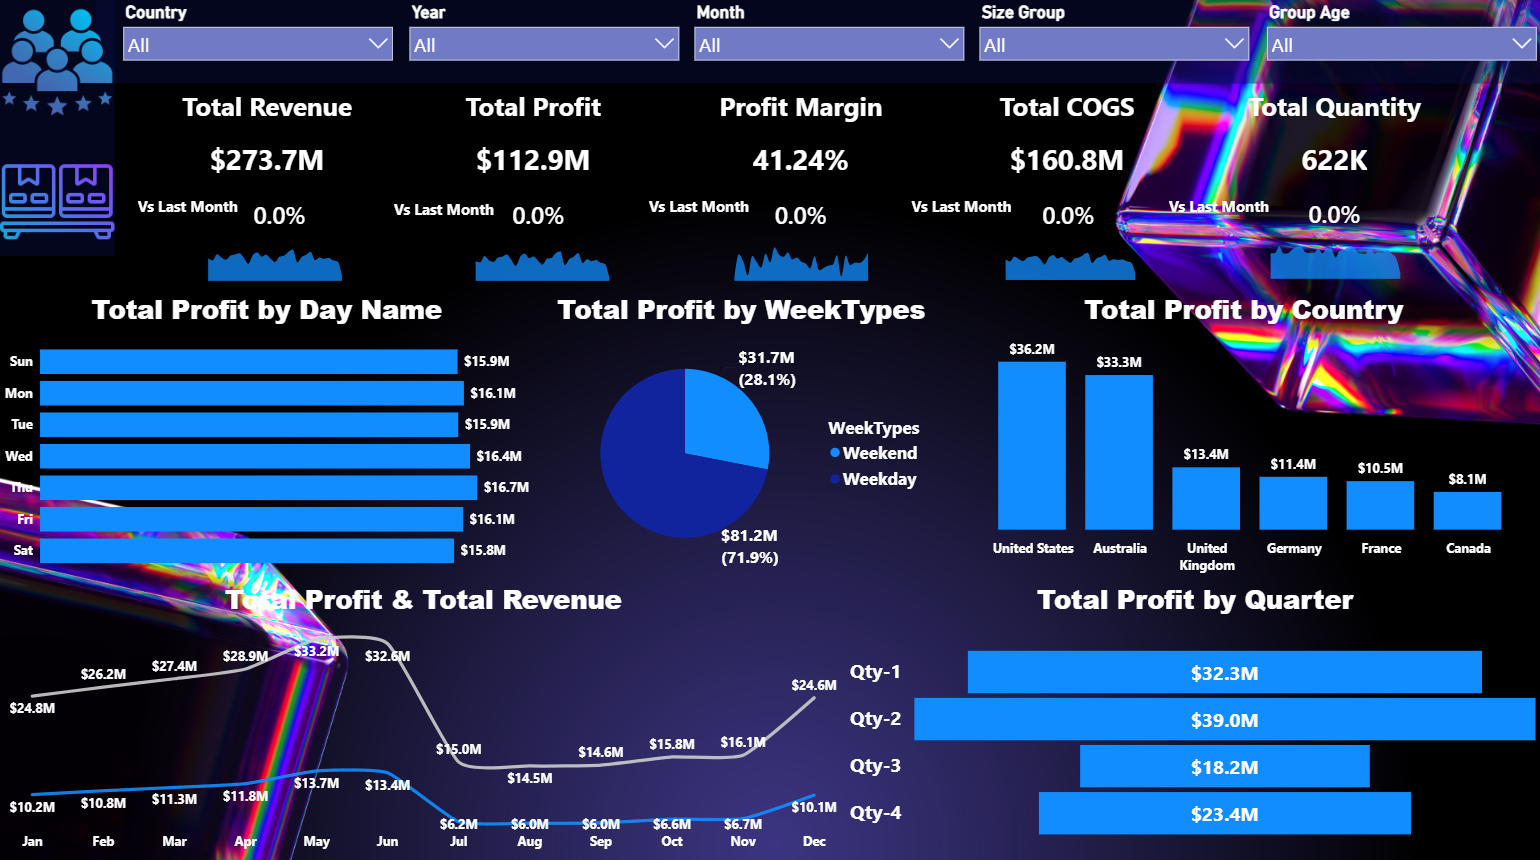

The page's visual inventory and layout, read from the dashboard file:
{"tool":"powerbi","page":{"name":"Over_View","canvas":[1920,1080],"ordinal":1},"visuals":[{"type":"shape","box":[0,0,142.4,321],"z":0},{"type":"shape","box":[120.4,0,1799.6,106.4],"z":1000},{"type":"cardVisual","title":"Total Revenue","fields":{"Data":["0.Revenue MoM %"]},"box":[254.2,234.4,185.2,66.8],"z":2000},{"type":"cardVisual","title":"Total Revenue","fields":{"Data":["0.Profit MoM %"]},"box":[577,234.4,185.2,66.8],"z":3000},{"type":"cardVisual","title":"Total Revenue","fields":{"Data":["0.Profit Margin MoM %"]},"box":[903.4,236.2,185.7,63.1],"z":4000},{"type":"cardVisual","title":"Total Revenue","fields":{"Data":["0.COGS MoM %"]},"box":[1235.2,236.2,185.7,63.1],"z":5000},{"type":"cardVisual","title":"Total Revenue","fields":{"Data":["0.Quantity MoM %"]},"box":[1566.9,232.6,185.2,66.8],"z":6000},{"type":"lineChart","title":"Total Profit & Total Revenue ","fields":{"Category":["DimDate.Month Name"],"Y":["0.Total Profit","0.Total Revenue"]},"box":[0,724.9,1053,346.2],"z":7000},{"type":"barChart","fields":{"Category":["DimDate.Day Name"],"Y":["0.Total Profit"]},"box":[0,364.2,663.6,360.6],"z":8000},{"type":"pieChart","fields":{"Category":["DimDate.WeekTypes"],"Y":["0.Total Profit"]},"box":[669,364.2,506.7,360.6],"z":9000},{"type":"funnel","fields":{"Category":["DimDate.Quarter"],"Y":["0.Total Profit"]},"box":[1053,724.9,867.3,357],"z":10000},{"type":"columnChart","fields":{"Category":["DimGeography.Country"],"Y":["0.Total Profit"]},"box":[1175.7,364.2,742.9,360.6],"z":11000},{"type":"areaChart","title":"Total Revenue","fields":{"Category":["DimDate.Date.Variation.Date Hierarchy.Day"],"Y":["0.Total Revenue"]},"box":[243.4,290.3,196.2,66.2],"z":12000},{"type":"areaChart","title":"Total Revenue","fields":{"Category":["DimDate.Date.Variation.Date Hierarchy.Day"],"Y":["0.Total Profit"]},"box":[577,290.3,196.2,66.2],"z":13000},{"type":"areaChart","title":"Total Revenue","fields":{"Category":["DimDate.Date.Variation.Date Hierarchy.Day"],"Y":["0.Total COGS"]},"box":[1235.2,288.5,191.1,66.7],"z":14000},{"type":"areaChart","title":"Total Revenue","fields":{"Category":["DimDate.Date.Variation.Date Hierarchy.Day"],"Y":["0.Total Quantity"]},"box":[1565.1,286.7,191.1,68.5],"z":15000},{"type":"areaChart","title":"Total Revenue","fields":{"Category":["DimDate.Date.Variation.Date Hierarchy.Day"],"Y":["0.% Profit Margin"]},"box":[898,290.3,196.2,66.2],"z":16000},{"type":"cardVisual","title":"Total Revenue","fields":{"Data":["0.Total Revenue"]},"box":[165.9,111.4,331.8,129.8],"z":17000},{"type":"cardVisual","title":"Total Profit","fields":{"Data":["0.Total Profit"]},"box":[497.7,111.4,331.8,129.8],"z":18000},{"type":"cardVisual","title":"Profit Margin","fields":{"Data":["0.% Profit Margin"]},"box":[829.5,111.4,331.8,129.8],"z":19000},{"type":"cardVisual","title":"Total COGS","fields":{"Data":["0.Total COGS"]},"box":[1161.2,111.4,331.8,129.8],"z":20000},{"type":"cardVisual","title":"Total Quantity","fields":{"Data":["0.Total Quantity"]},"box":[1493,111.4,331.8,129.8],"z":21000},{"type":"slicer","title":"Country","fields":{"Values":["DimGeography.Country"]},"box":[143.1,0.7,355.2,90.2],"z":22000},{"type":"slicer","title":"Country","fields":{"Values":["DimDate.Date.Variation.Date Hierarchy.Year"]},"box":[498.4,0.7,355.2,90.2],"z":23000},{"type":"slicer","title":"Country","fields":{"Values":["DimDate.Date.Variation.Date Hierarchy.Month"]},"box":[853.6,0.7,355.2,90.2],"z":24000},{"type":"slicer","title":"Country","fields":{"Values":["DimCustomer.Group Age"]},"box":[1565.1,0,355.2,90.2],"z":25000},{"type":"slicer","title":"Country","fields":{"Values":["DimProduct.Size Group"]},"box":[1208.1,0,355.2,90.2],"z":26000},{"type":"textbox","box":[165.9,241.6,156.9,46.9],"z":27000},{"type":"textbox","box":[485.1,245.2,156.9,46.9],"z":28000},{"type":"textbox","box":[802.4,241.6,156.9,46.9],"z":29000},{"type":"textbox","box":[1128.8,241.6,156.9,46.9],"z":30000},{"type":"textbox","box":[1447.9,241.6,156.9,46.9],"z":31000},{"type":"image","box":[0,169.5,142.4,167.7],"z":32000},{"type":"image","box":[0,0,142.4,160.5],"z":33000}]}

Visuals, with their boxes in screenshot pixels (x1, y1, x2, y2), scaled from the page's 1920x1080 canvas onto the 1540x860 screenshot:
shape: <bbox>0, 0, 114, 256</bbox>
shape: <bbox>97, 0, 1539, 85</bbox>
"Total Revenue" cardVisual: <bbox>204, 187, 352, 240</bbox>
"Total Revenue" cardVisual: <bbox>463, 187, 611, 240</bbox>
"Total Revenue" cardVisual: <bbox>725, 188, 874, 238</bbox>
"Total Revenue" cardVisual: <bbox>991, 188, 1140, 238</bbox>
"Total Revenue" cardVisual: <bbox>1257, 185, 1405, 238</bbox>
"Total Profit & Total Revenue " lineChart: <bbox>0, 577, 845, 853</bbox>
barChart - DimDate.Day Name x 0.Total Profit: <bbox>0, 290, 532, 577</bbox>
pieChart - DimDate.WeekTypes x 0.Total Profit: <bbox>537, 290, 943, 577</bbox>
funnel - DimDate.Quarter x 0.Total Profit: <bbox>845, 577, 1539, 859</bbox>
columnChart - DimGeography.Country x 0.Total Profit: <bbox>943, 290, 1539, 577</bbox>
"Total Revenue" areaChart: <bbox>195, 231, 353, 284</bbox>
"Total Revenue" areaChart: <bbox>463, 231, 620, 284</bbox>
"Total Revenue" areaChart: <bbox>991, 230, 1144, 283</bbox>
"Total Revenue" areaChart: <bbox>1255, 228, 1409, 283</bbox>
"Total Revenue" areaChart: <bbox>720, 231, 878, 284</bbox>
"Total Revenue" cardVisual: <bbox>133, 89, 399, 192</bbox>
"Total Profit" cardVisual: <bbox>399, 89, 665, 192</bbox>
"Profit Margin" cardVisual: <bbox>665, 89, 931, 192</bbox>
"Total COGS" cardVisual: <bbox>931, 89, 1198, 192</bbox>
"Total Quantity" cardVisual: <bbox>1198, 89, 1464, 192</bbox>
"Country" slicer: <bbox>115, 1, 400, 72</bbox>
"Country" slicer: <bbox>400, 1, 685, 72</bbox>
"Country" slicer: <bbox>685, 1, 970, 72</bbox>
"Country" slicer: <bbox>1255, 0, 1539, 72</bbox>
"Country" slicer: <bbox>969, 0, 1254, 72</bbox>
textbox: <bbox>133, 192, 259, 230</bbox>
textbox: <bbox>389, 195, 515, 233</bbox>
textbox: <bbox>644, 192, 769, 230</bbox>
textbox: <bbox>905, 192, 1031, 230</bbox>
textbox: <bbox>1161, 192, 1287, 230</bbox>
image: <bbox>0, 135, 114, 269</bbox>
image: <bbox>0, 0, 114, 128</bbox>
